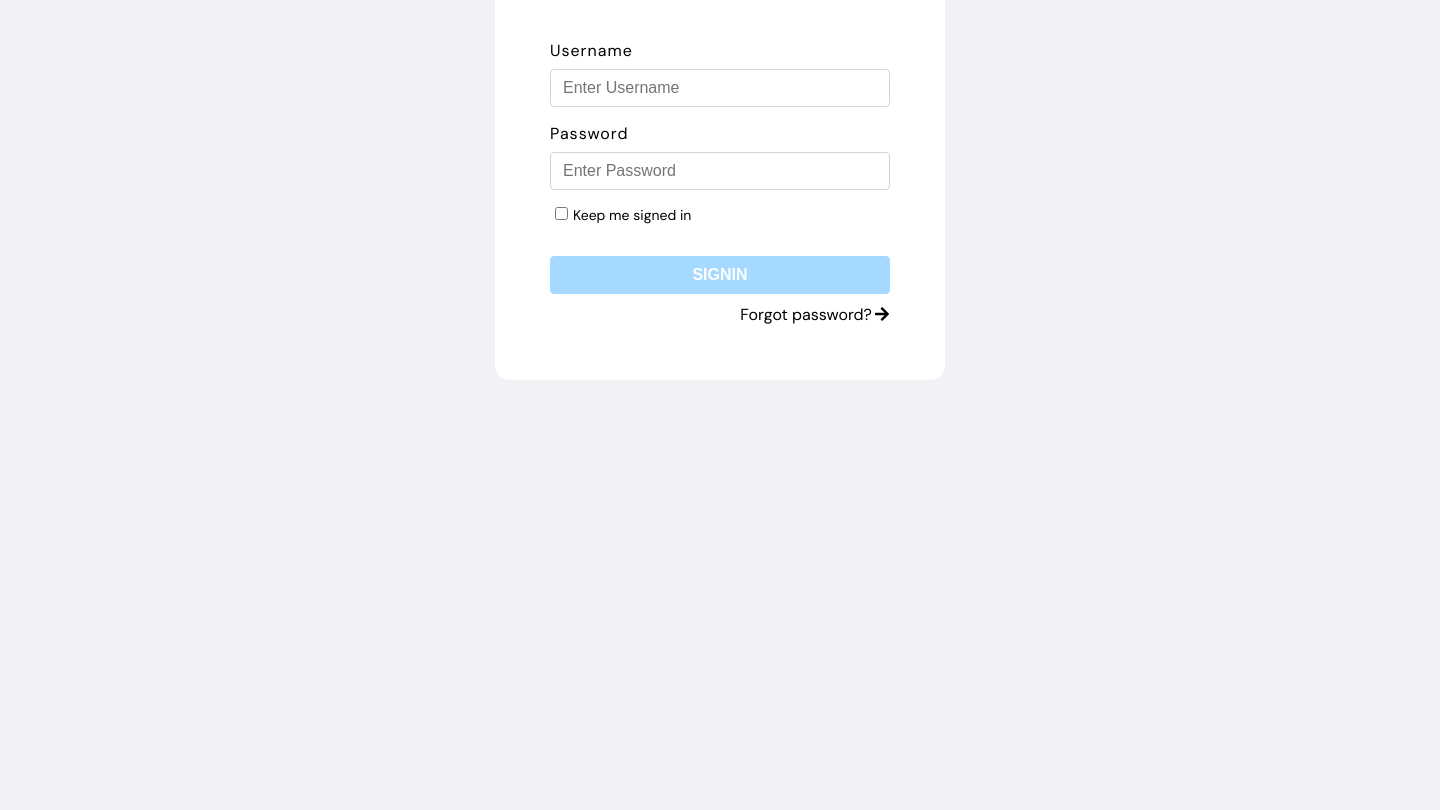
Test: Sign In Page › Button › Should change label when clicked
The width and height of the screenshot is (1440, 810).
Type "yorman" into the field labelled "Username" at (720, 88), box [550, 69, 890, 107]
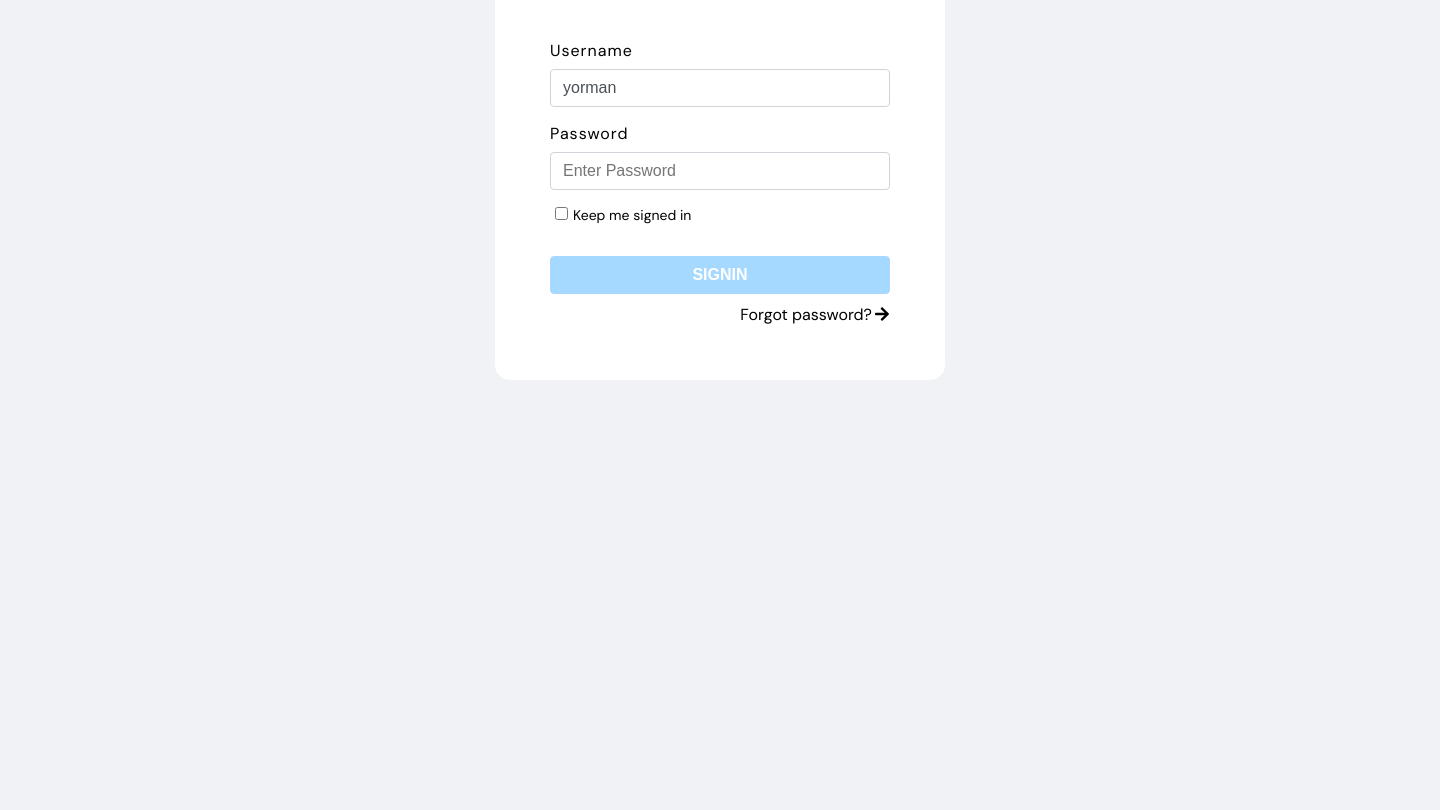
Type "yordev" into the password field labelled "Password" at (720, 171), box [550, 152, 890, 190]
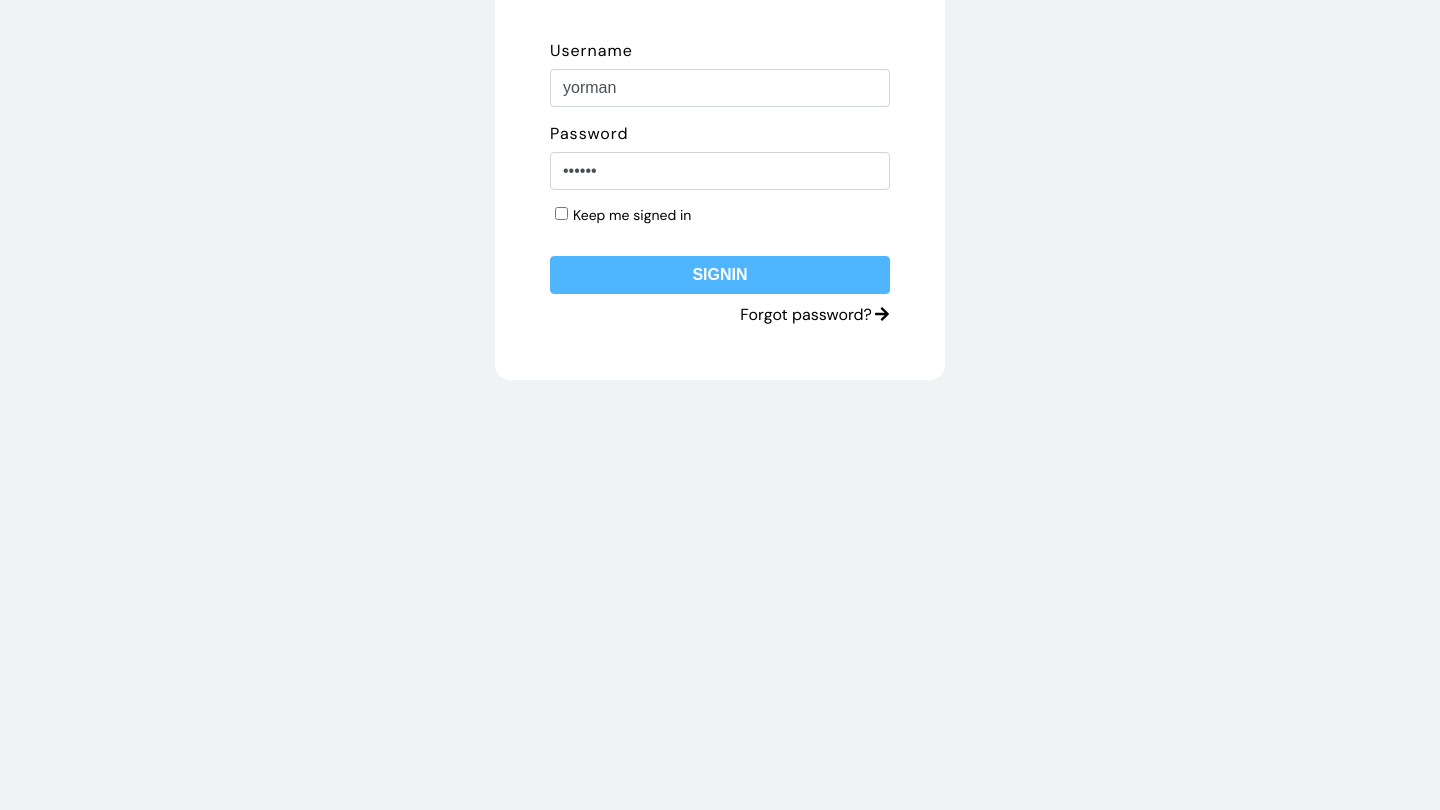
Click the button at (720, 275), box [550, 256, 890, 294]
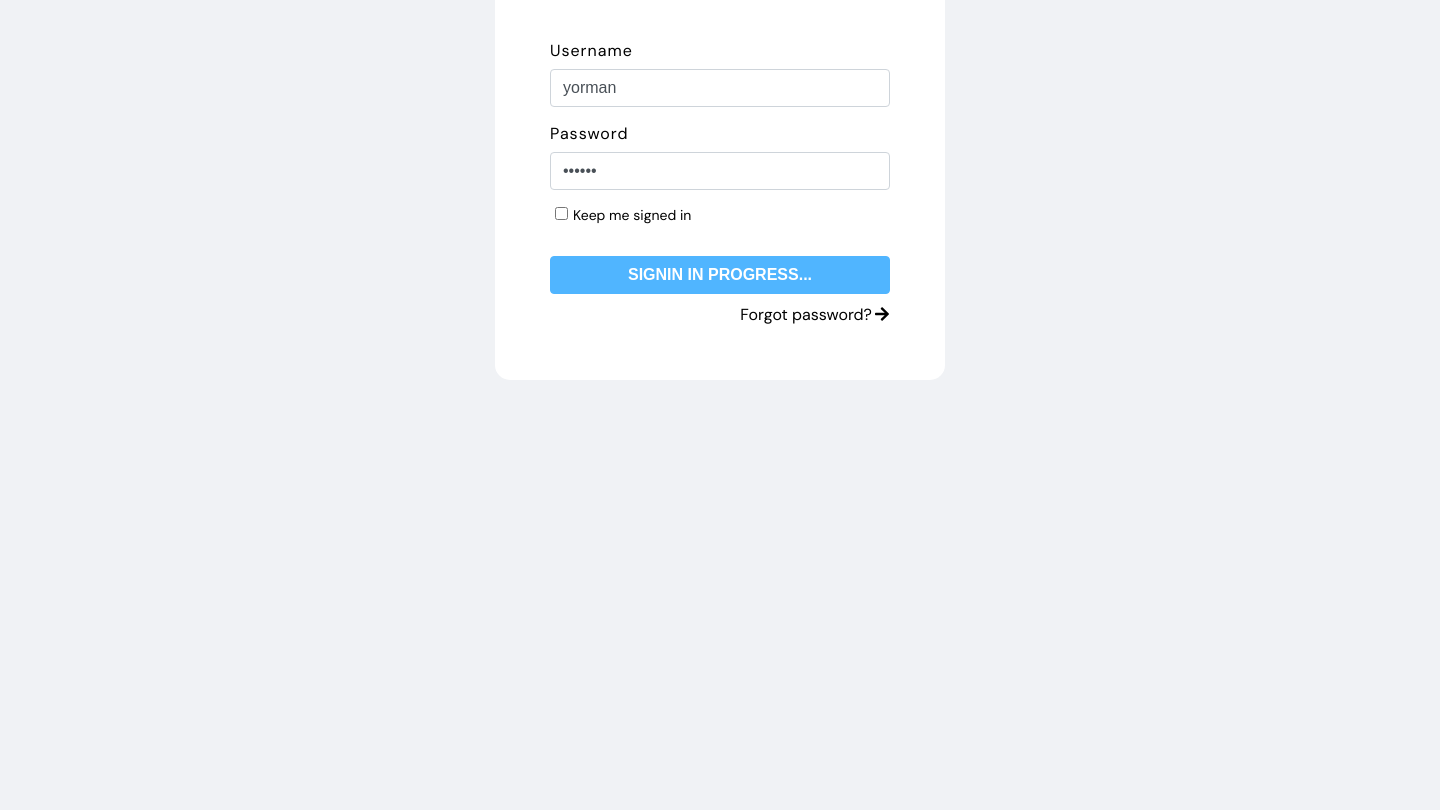
Expected: the button reads "SIGNIN IN PROGRESS...", [550, 256, 890, 294]
